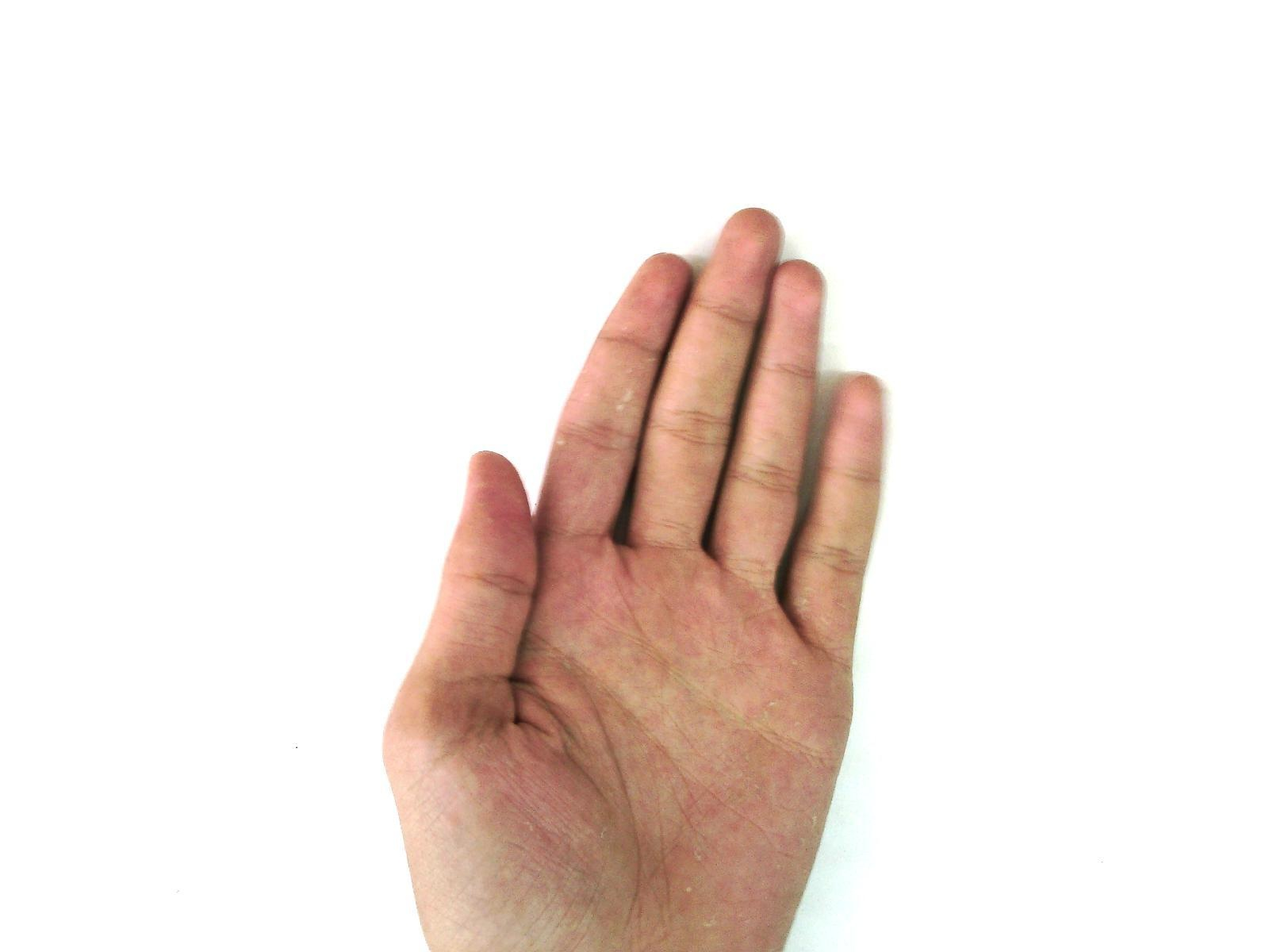open_palm: (380, 206, 892, 951)
